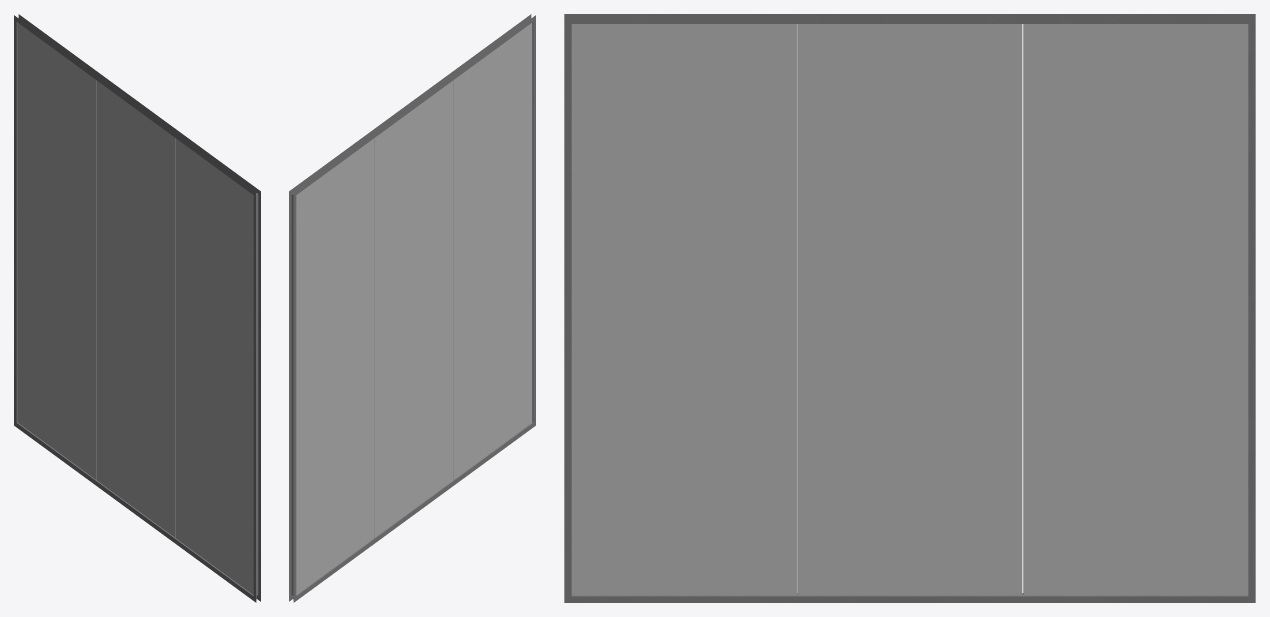
Rendered from SM_StoreFront_Glass_500.fbx.
3 renders of one model, left to right at view 1: azimuth 30°, elevation 25°; view 2: azimuth 150°, elevation 25°; view 3: azimuth 270°, elevation 25°, orthographic. The views are drawn at different scales.
Visible parts, largest first — view 1: SM_StoreFront_Glass_500_LOD0; view 2: SM_StoreFront_Glass_500_LOD0; view 3: SM_StoreFront_Glass_500_LOD0.
Part boxes in pixels (x1,y1,x2,y2): SM_StoreFront_Glass_500_LOD0: [14, 14, 260, 602]; SM_StoreFront_Glass_500_LOD0: [289, 14, 535, 602]; SM_StoreFront_Glass_500_LOD0: [564, 14, 1255, 602].
Bounding box in the file's own units: 5 × 460 × 430.
